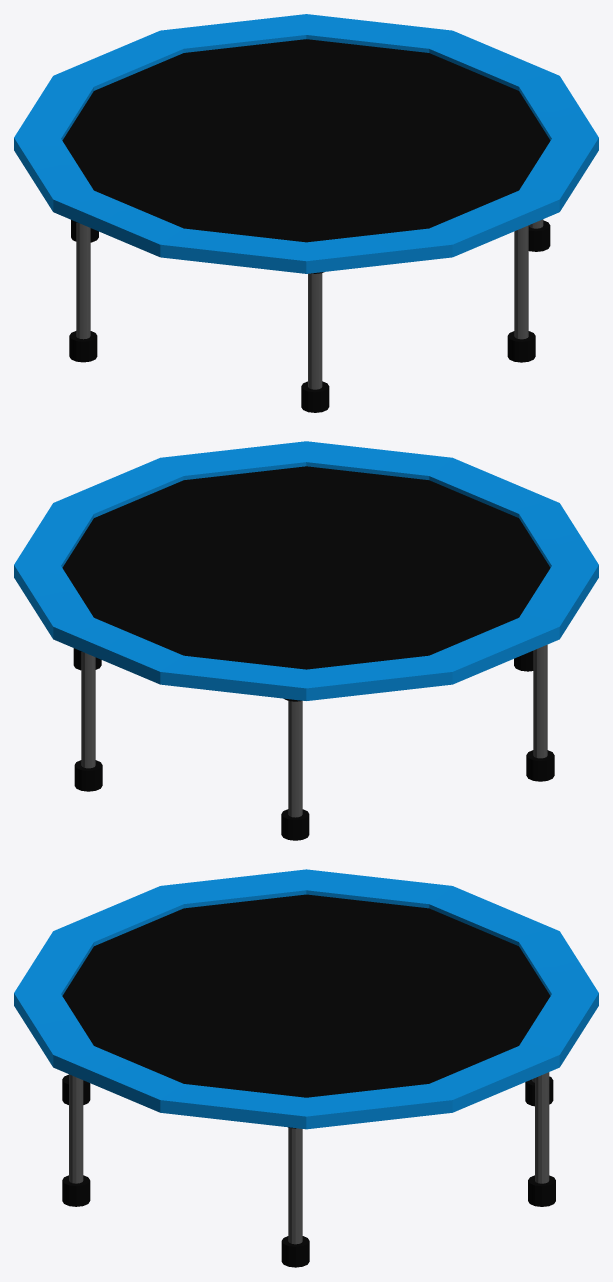
The model's file is trampolin.fbx.
3 renders of one model, top to bottom at view 1: azimuth 30°, elevation 25°; view 2: azimuth 150°, elevation 25°; view 3: azimuth 270°, elevation 25°, orthographic.
Visible parts, largest first — view 1: pCylinder1, pCylinder15, pCylinder11, pCylinder14, pCylinder13; view 2: pCylinder1, pCylinder6, pCylinder12, pCylinder11; view 3: pCylinder1, pCylinder13, pCylinder12, pCylinder14.
Boxes of the visible parts, bbox=[...] form: pCylinder1: bbox=[14, 14, 598, 273]; pCylinder15: bbox=[301, 272, 329, 412]; pCylinder11: bbox=[69, 220, 97, 362]; pCylinder14: bbox=[507, 225, 535, 362]; pCylinder13: bbox=[528, 219, 550, 251]; pCylinder1: bbox=[14, 441, 598, 700]; pCylinder6: bbox=[281, 698, 309, 840]; pCylinder12: bbox=[74, 649, 102, 791]; pCylinder11: bbox=[526, 644, 554, 781]; pCylinder1: bbox=[14, 869, 598, 1129]; pCylinder13: bbox=[281, 1127, 309, 1267]; pCylinder12: bbox=[528, 1072, 555, 1206]; pCylinder14: bbox=[62, 1074, 90, 1206].
Size of the model in its own units: 13.62 by 4.09 by 13.62.
